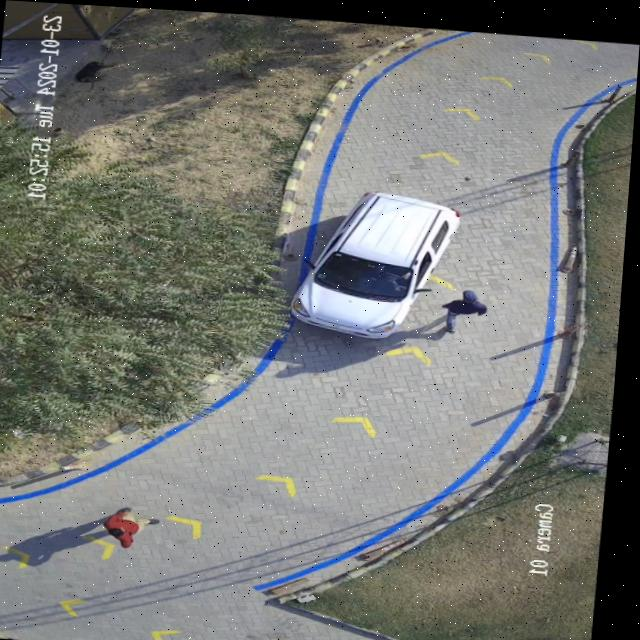car: (297, 186, 462, 332)
